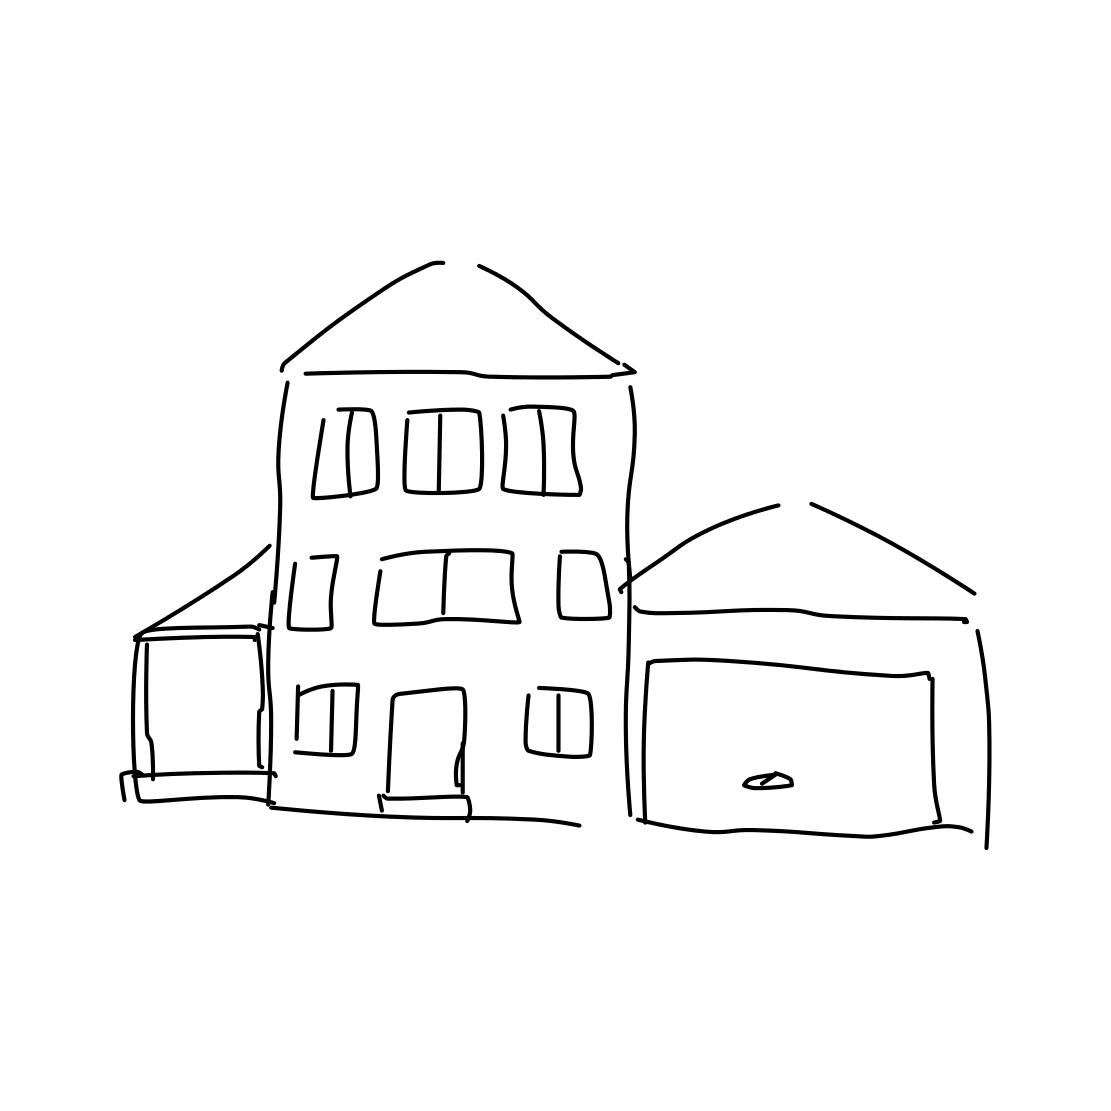House: (204, 241, 669, 847)
